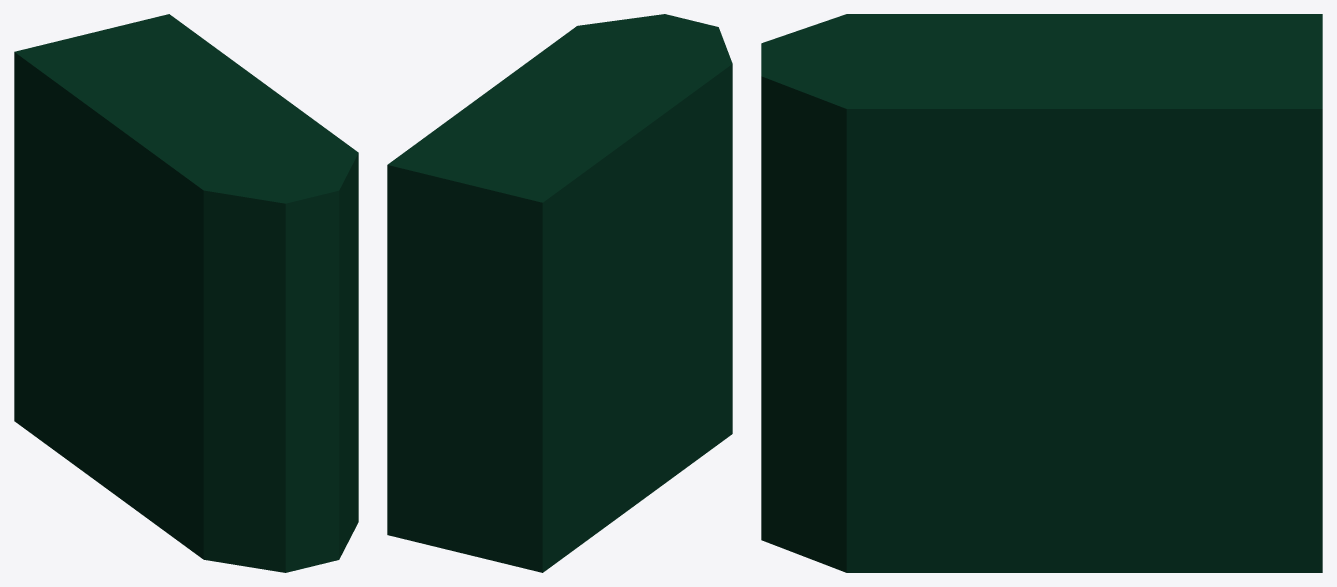
The model's file is DarkGreenShelfThing.fbx.
3 renders of one model, left to right at view 1: azimuth 30°, elevation 25°; view 2: azimuth 150°, elevation 25°; view 3: azimuth 270°, elevation 25°, orthographic. The views are drawn at different scales.
Visible parts, largest first — view 1: Cube; view 2: Cube; view 3: Cube.
Boxes of the visible parts, x1,y1,x2,y2 form: Cube: [14, 14, 358, 572]; Cube: [387, 14, 732, 572]; Cube: [761, 14, 1322, 572].
Size of the model in its own units: 56.21 by 128 by 140.
